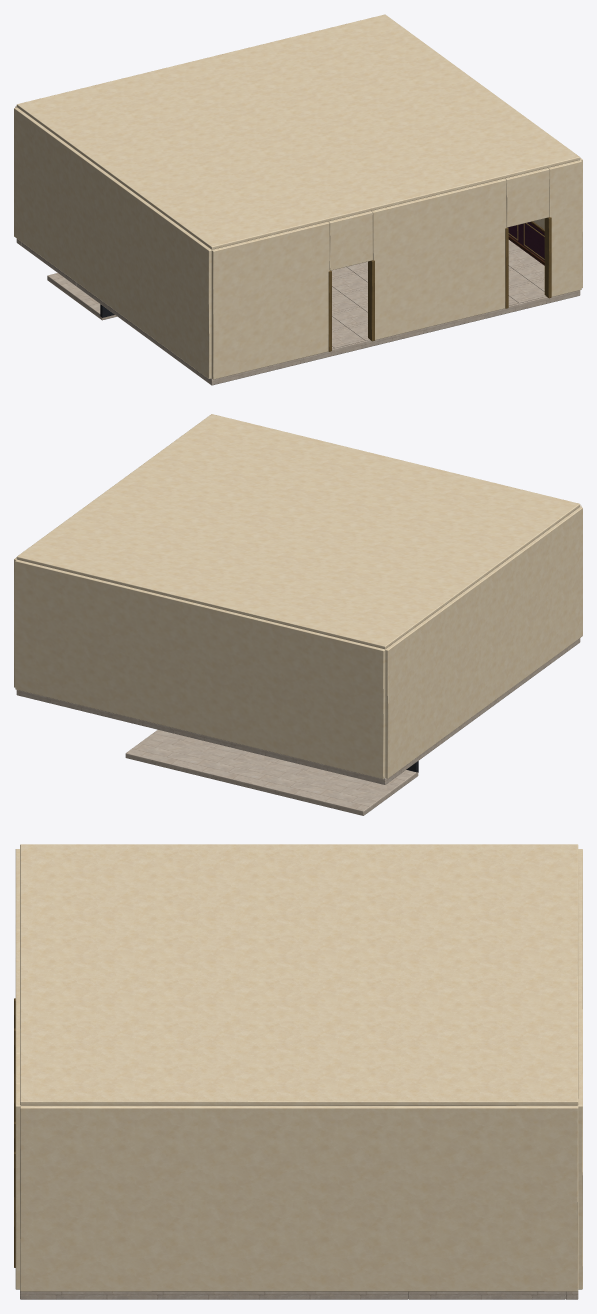
The model's file is core_external_inspection.glb.
The picture shows the model from 3 angles, top to bottom: view 1: azimuth 30°, elevation 25°; view 2: azimuth 150°, elevation 25°; view 3: azimuth 270°, elevation 25°; orthographic projection. The views are drawn at different scales.
Parts seen in each view (by area): view 1: Rebuilt_core_external_inspection; view 2: Rebuilt_core_external_inspection; view 3: Rebuilt_core_external_inspection.
Part boxes in pixels (x1,y1,x2,y2): Rebuilt_core_external_inspection: (14,14,582,385); Rebuilt_core_external_inspection: (14,414,582,815); Rebuilt_core_external_inspection: (14,844,582,1299).
Bounding box in the file's own units: 12.18 × 5.58 × 11.21.
9 materials, 8 textured.
